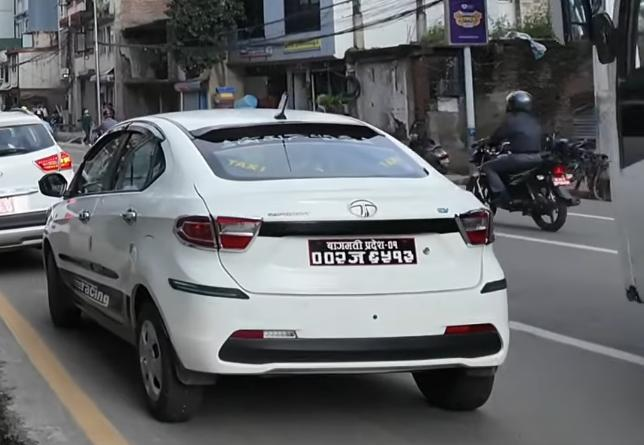bike: (457, 135, 575, 237)
car: (36, 99, 514, 430)
